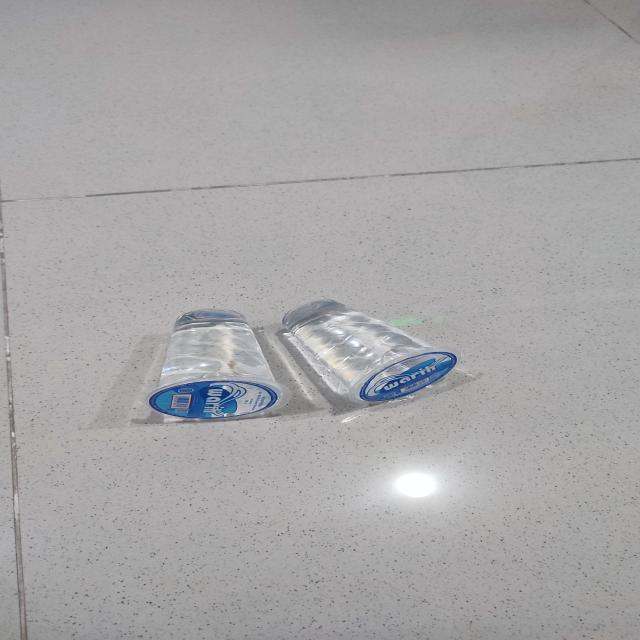air gelas: (267, 293, 462, 408), (138, 306, 292, 424)
